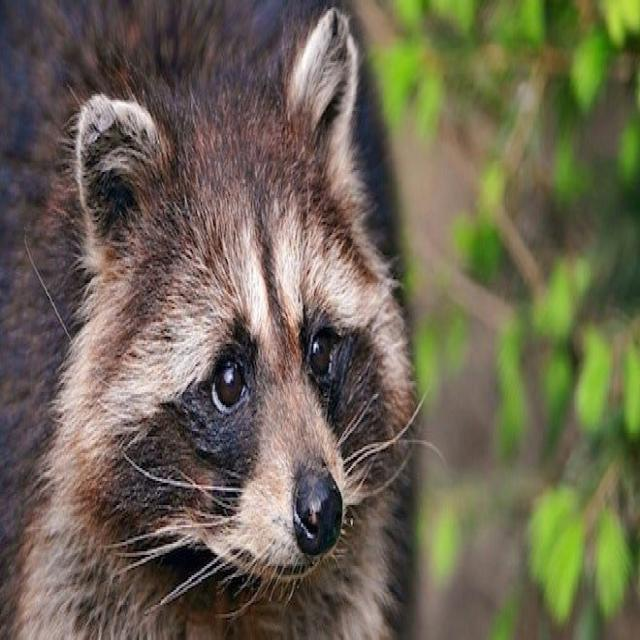Raccoon: (49, 11, 420, 634)
